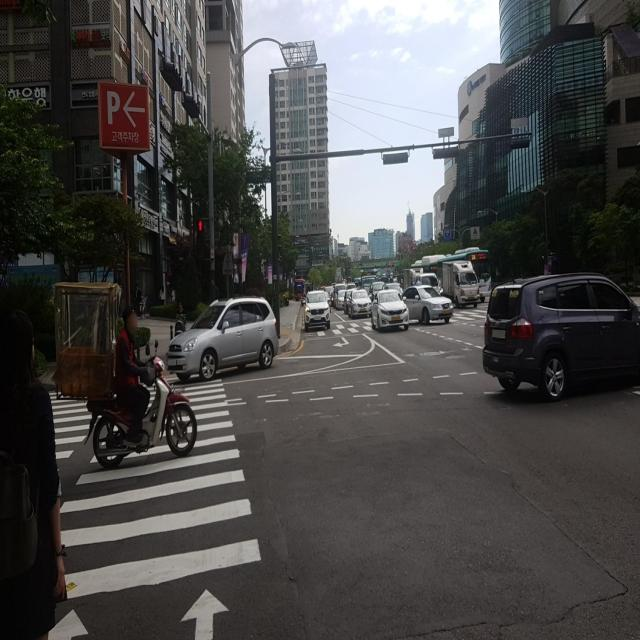빨간불: (196, 217, 205, 260)
횡단보도: (0, 354, 259, 640), (295, 301, 503, 339)
